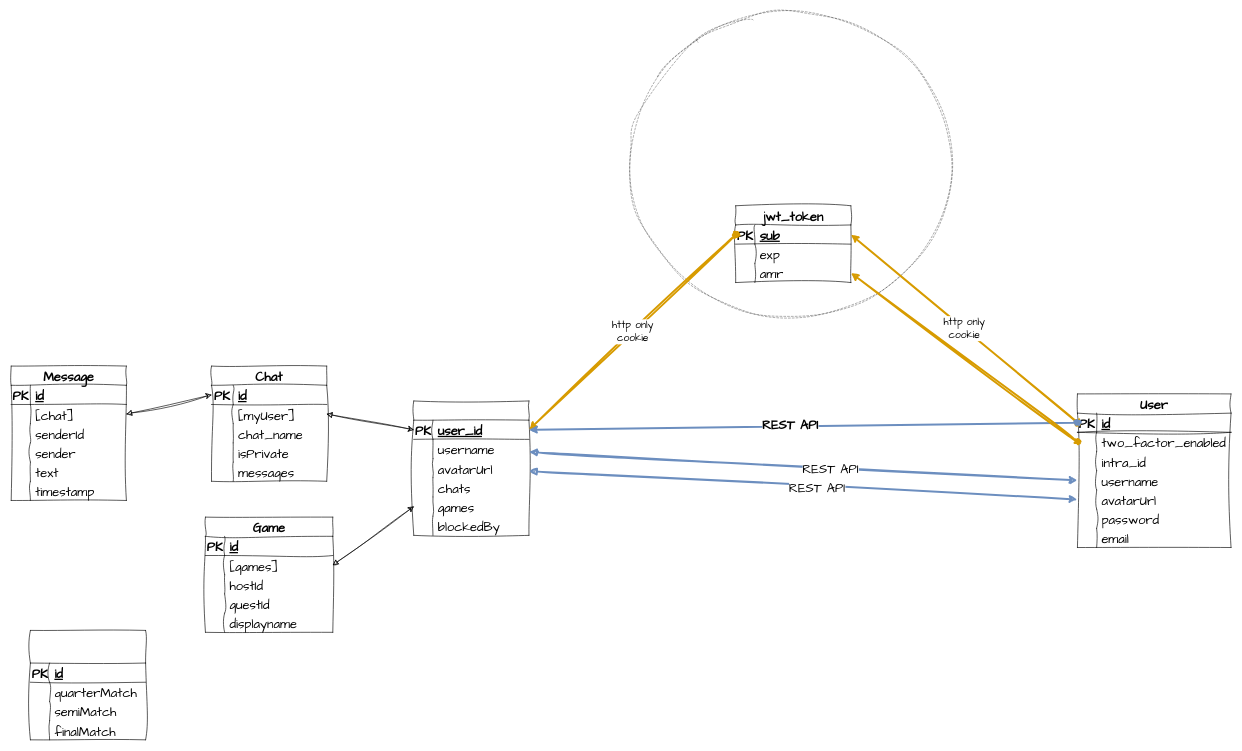
This 1242x751 diagram has some shape labels left out. Each missing label, with the box of its shape:
Frontend: (629, 11, 952, 317)
MyUser: (413, 400, 529, 535)
Tournament: (30, 630, 146, 740)
